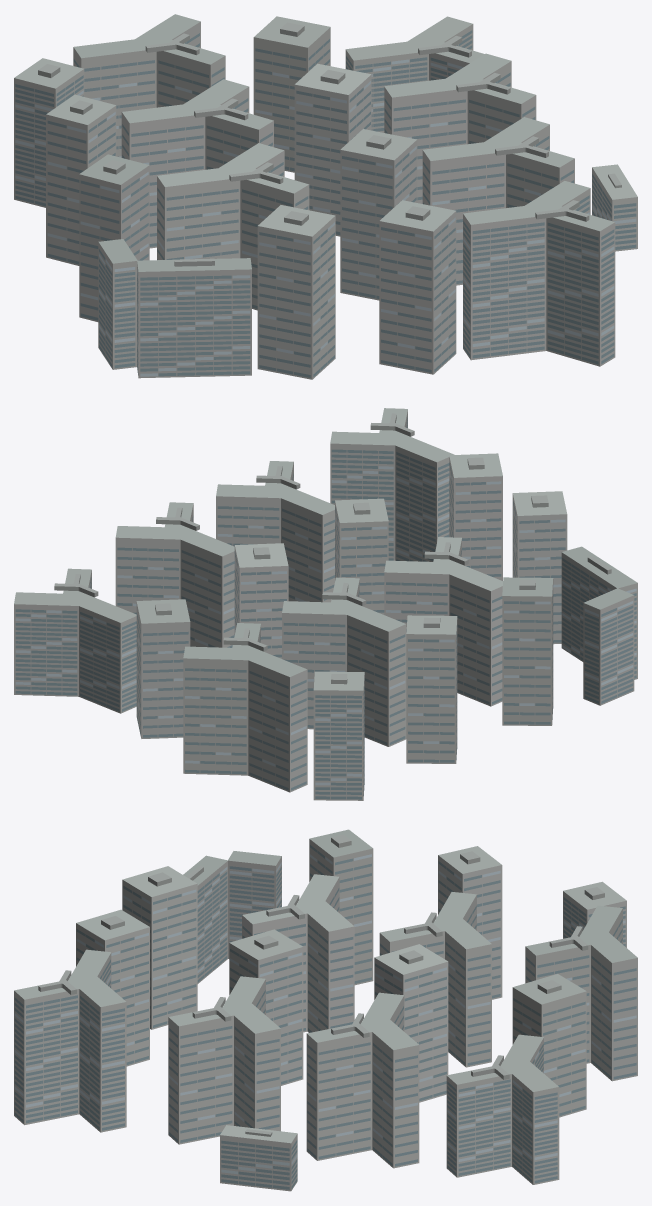
File: apt-a13405201.glb
3 renders of one model, top to bottom at view 1: azimuth 30°, elevation 25°; view 2: azimuth 150°, elevation 25°; view 3: azimuth 270°, elevation 25°, orthographic. The views are drawn at different scales.
Visible parts, largest first — view 1: apt-a13405201; view 2: apt-a13405201; view 3: apt-a13405201.
Part boxes in pixels (x1,y1,x2,y2): apt-a13405201: [14, 14, 637, 379]; apt-a13405201: [14, 408, 637, 800]; apt-a13405201: [14, 829, 637, 1191].
Bounding box in the file's own units: 288 × 76 × 314.
